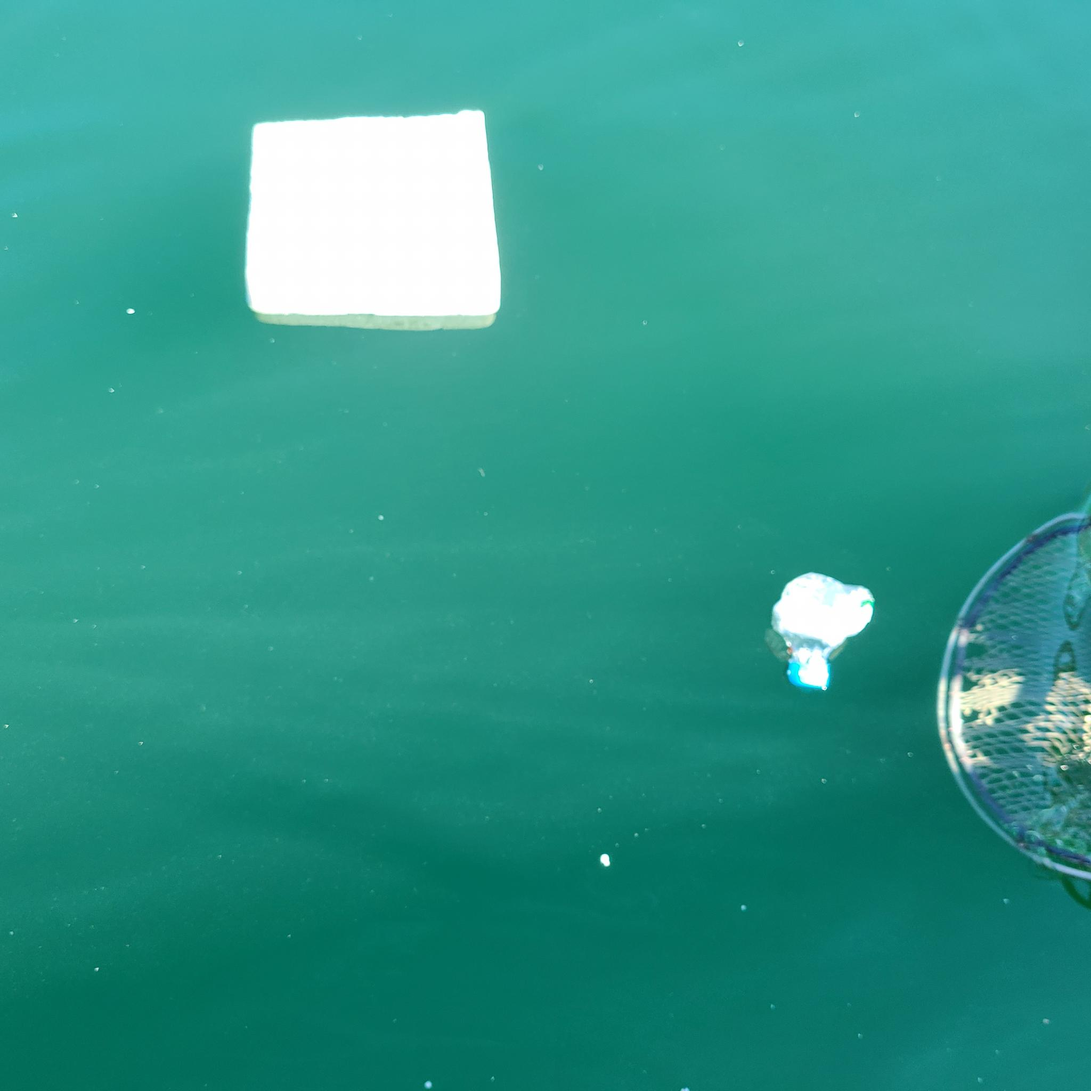sampah_terapung: (246, 110, 501, 330), (772, 573, 876, 690)
